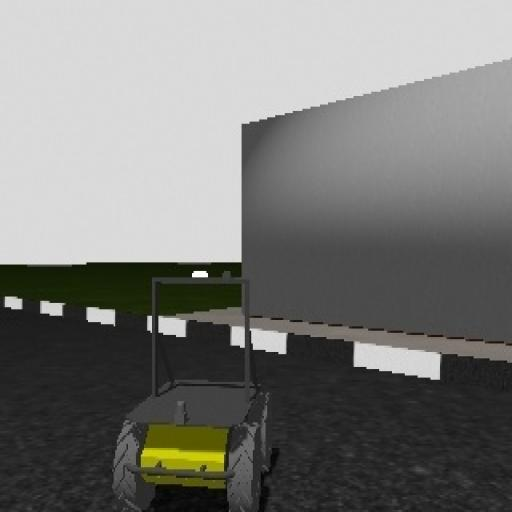huskya200: (108, 254, 286, 509)
